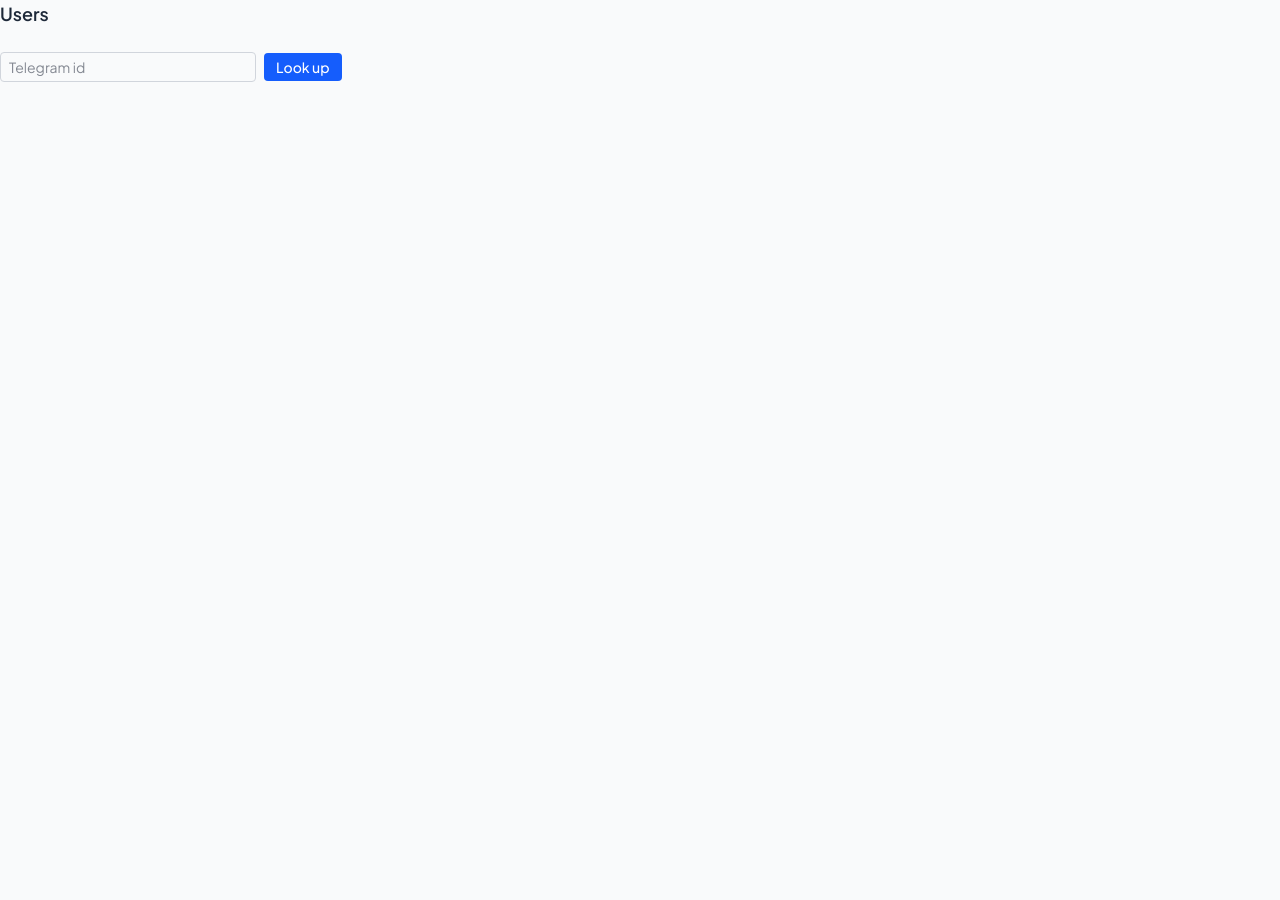
Test: OpsUsers lookup + footprint › ban calls the ban verb and reflects the banned state
In the field with placeholder "Telegram id": (128,67) [0,52,256,82], type "1010"
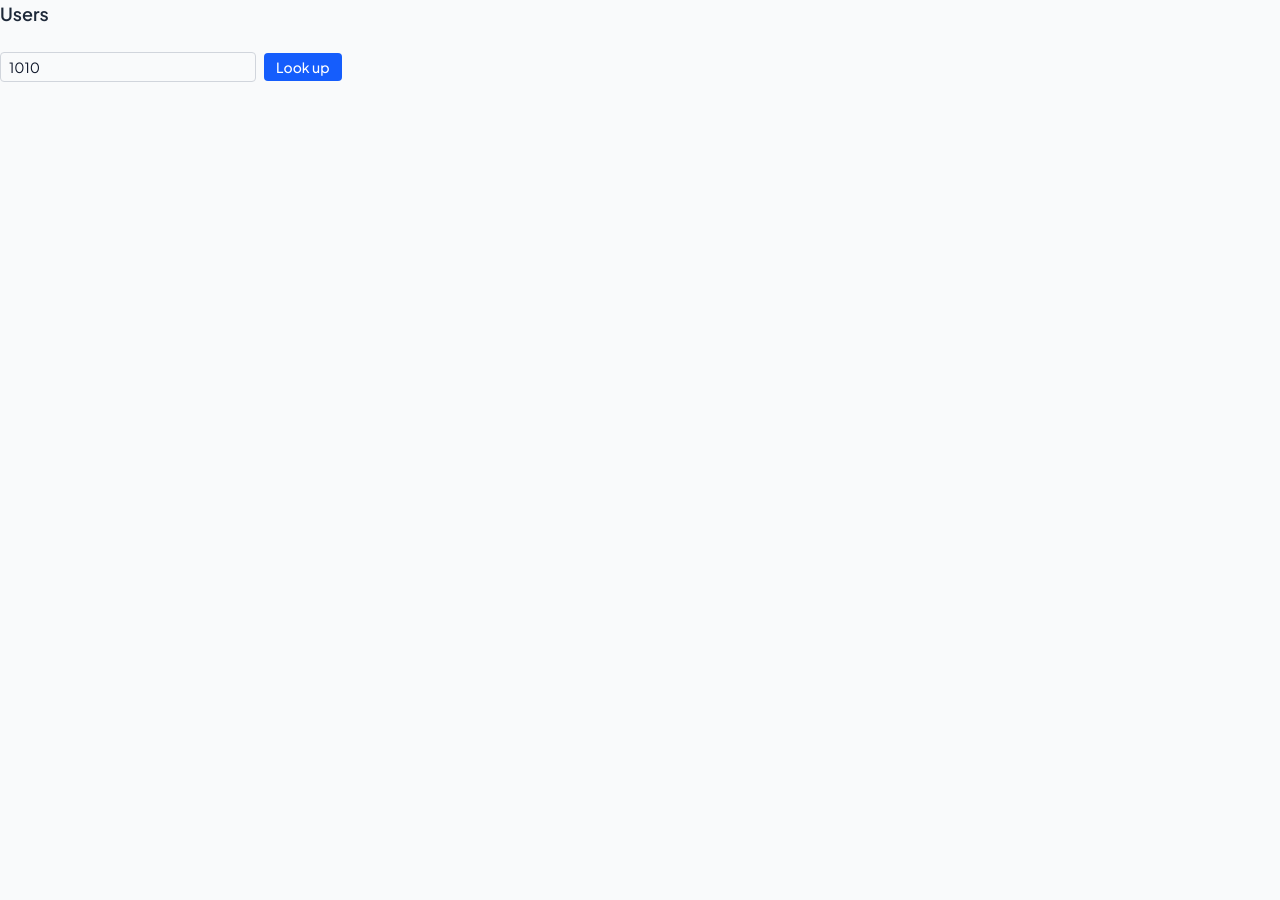
Click the button "Look up": (303,67) [264,53,342,81]
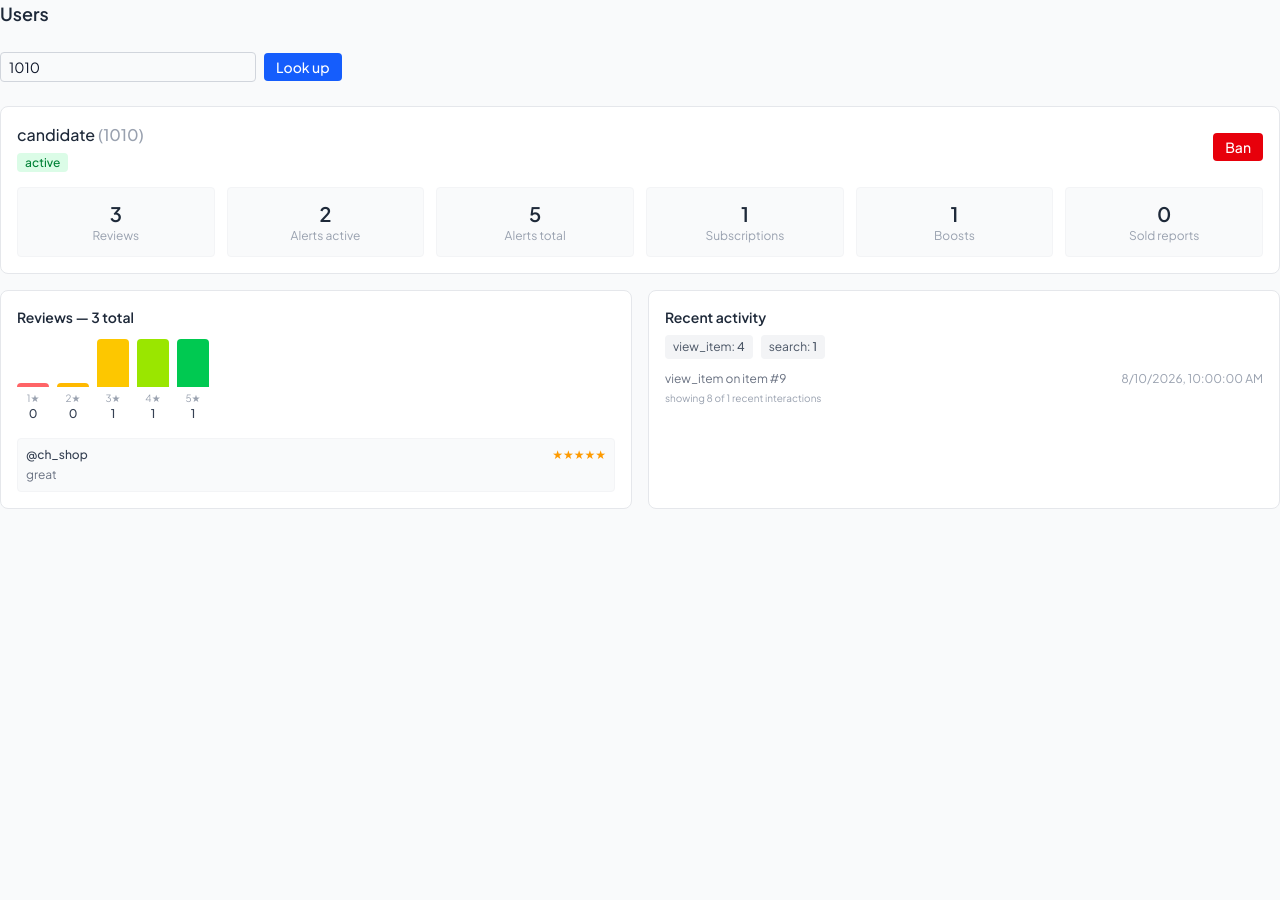
Click the button "Ban": (1238,147) [1213,133,1263,161]
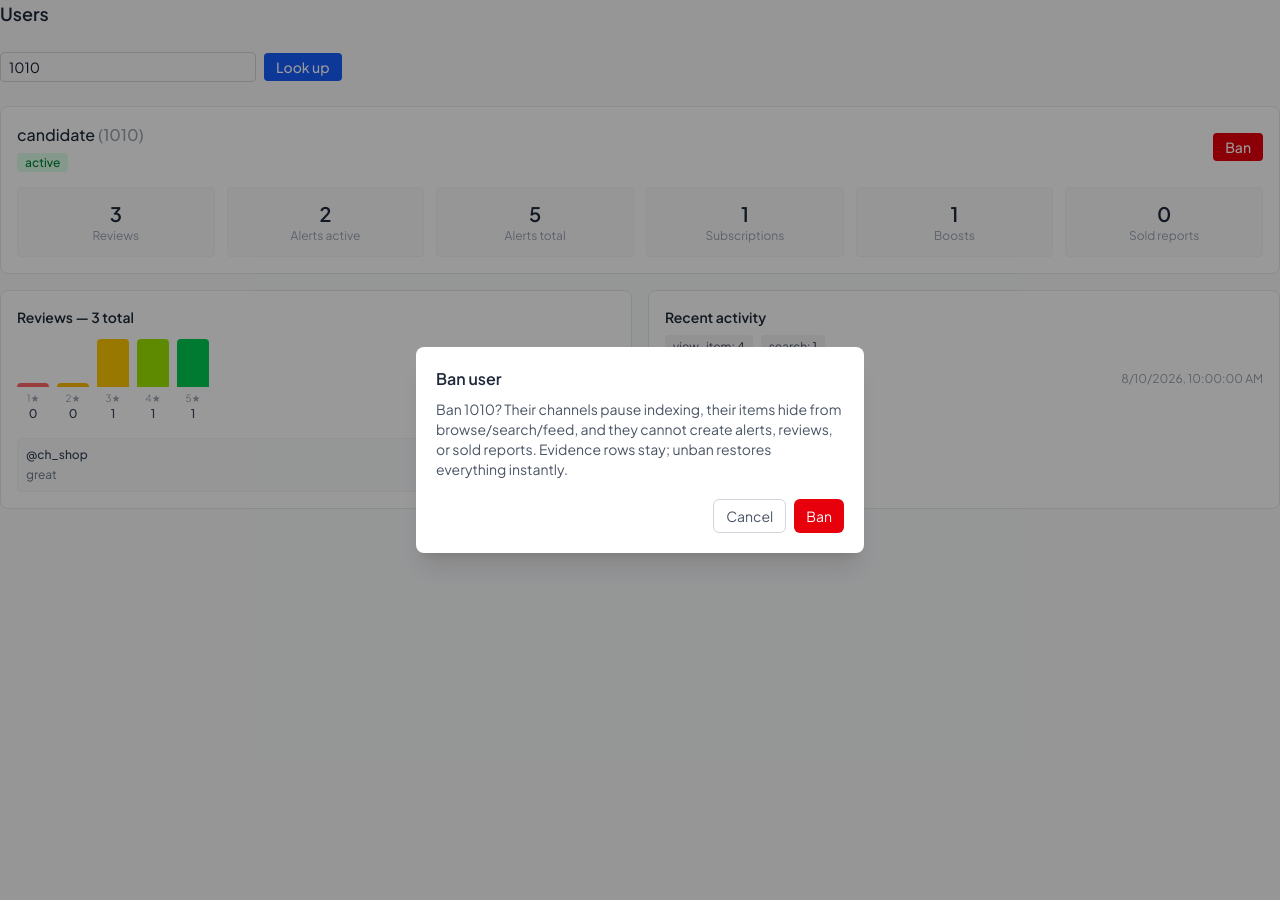
Click the button "Ban": (819,516) [794,499,844,533]
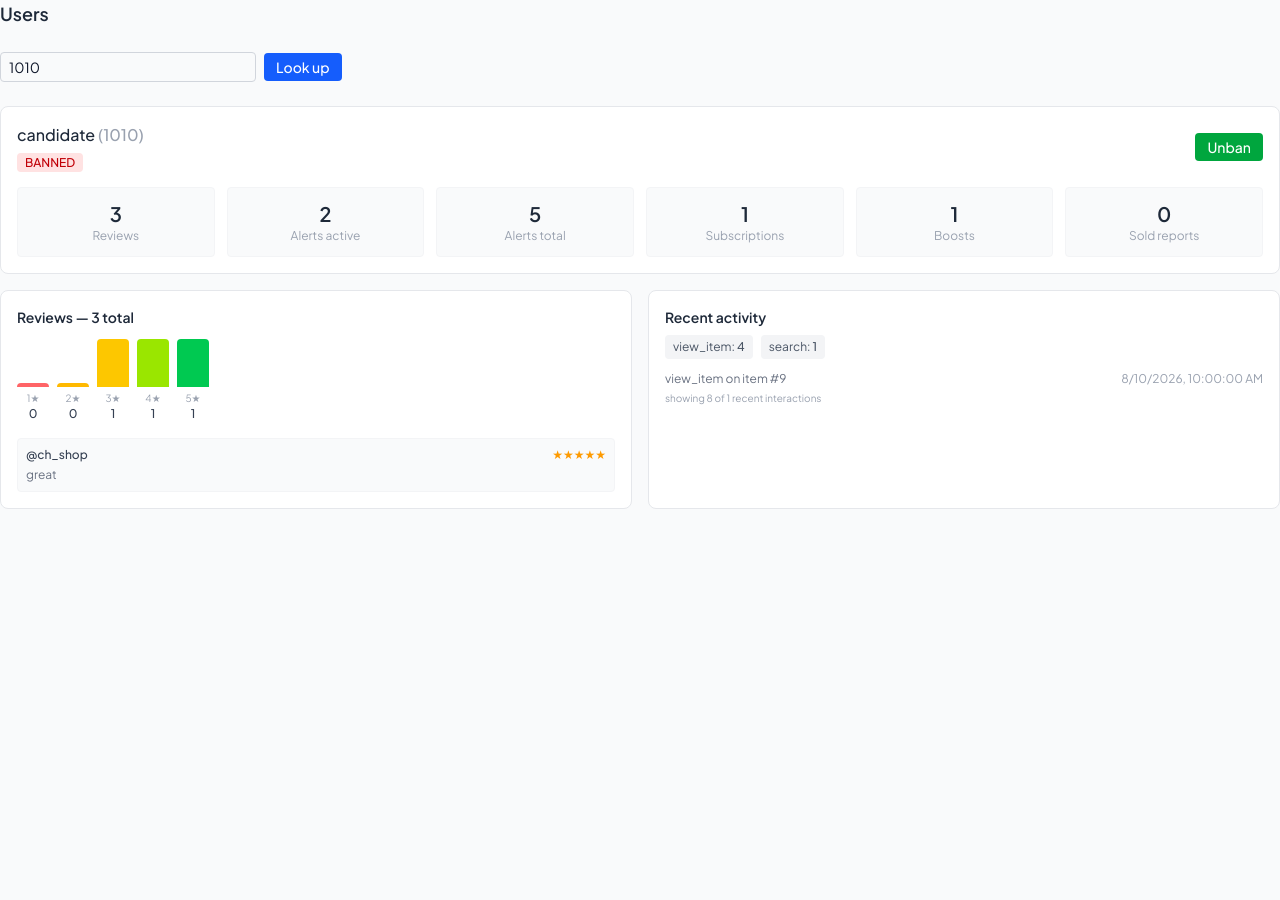
Result: the text "BANNED" is shown at [17,153,83,172]
Result: the button "Unban" is shown at [1196,133,1263,161]
